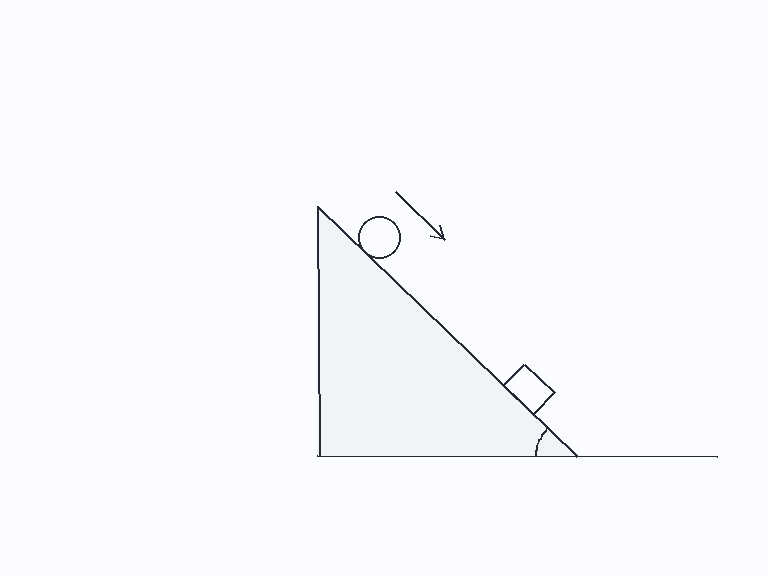ball: (356, 214, 402, 260)
block: (501, 361, 556, 416)
ramp: (316, 205, 578, 458)
